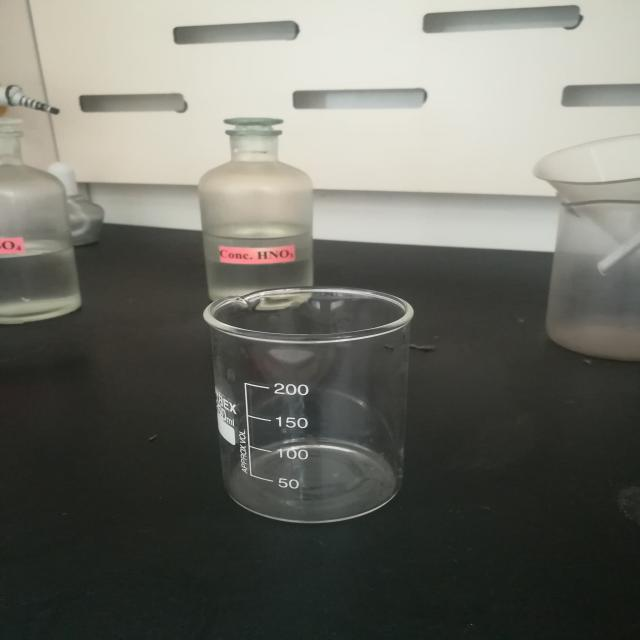Beaker: (183, 256, 452, 544)
Reagent_Bottle: (172, 92, 346, 286), (0, 100, 94, 339)
